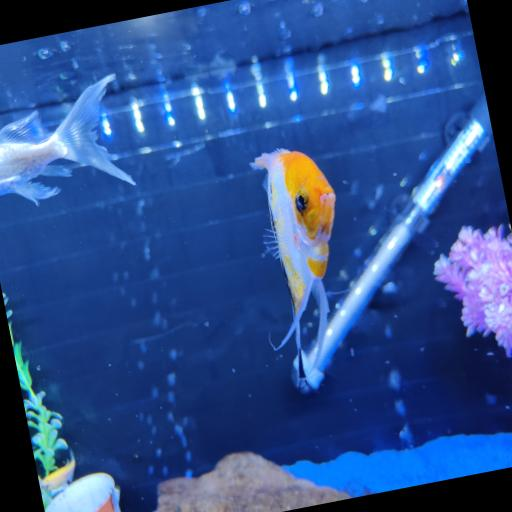Fish: (252, 149, 335, 388), (0, 74, 135, 205), (38, 451, 76, 491)
